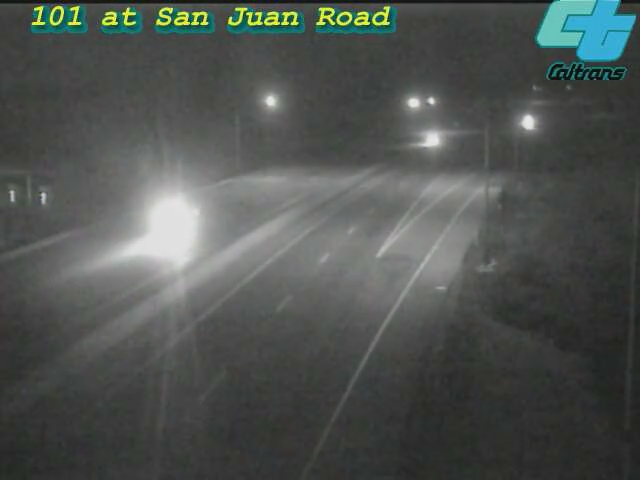vehicle: (128, 182, 208, 262), (404, 116, 454, 166), (501, 98, 551, 148)
